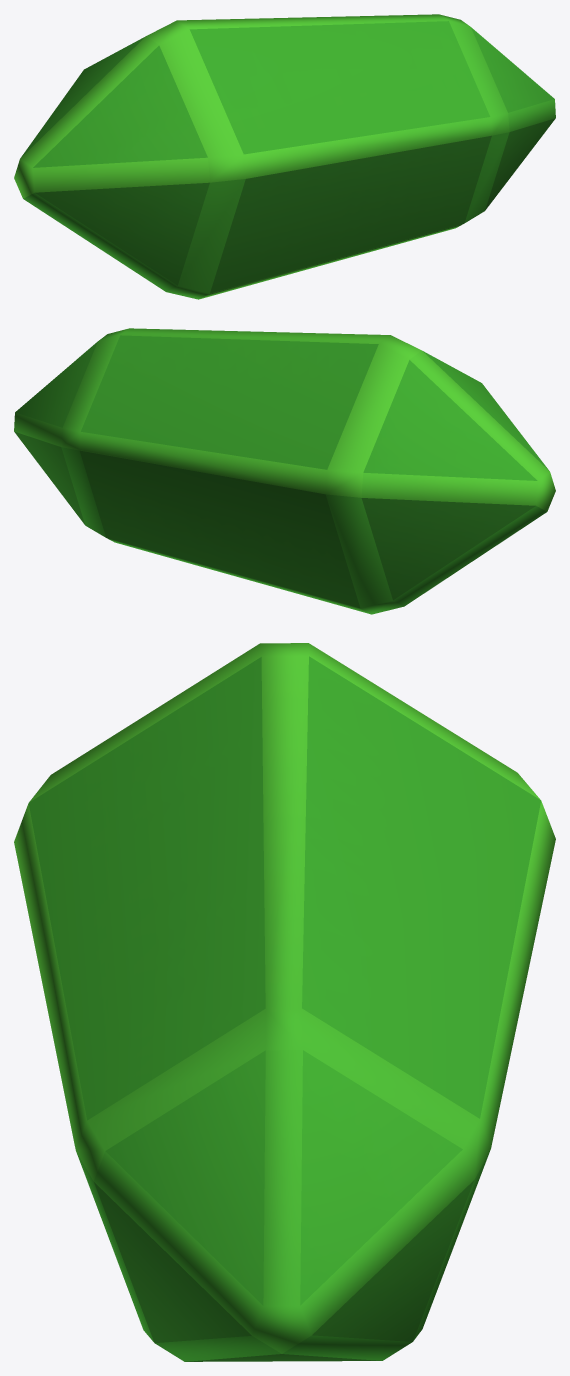
Rendered from christal_emerald_6.fbx.
3 renders of one model, top to bottom at view 1: azimuth 30°, elevation 25°; view 2: azimuth 150°, elevation 25°; view 3: azimuth 270°, elevation 25°, orthographic. The views are drawn at different scales.
Visible parts, largest first — view 1: christal_emerald_6; view 2: christal_emerald_6; view 3: christal_emerald_6.
Boxes of the visible parts, left/top/right/bottom form: christal_emerald_6: left=14, top=14, right=555, bottom=299; christal_emerald_6: left=14, top=328, right=555, bottom=614; christal_emerald_6: left=14, top=643, right=555, bottom=1361.
Bounding box in the file's own units: 67.5 × 29.59 × 31.25.
Materials: 1 (1 with a texture image).
